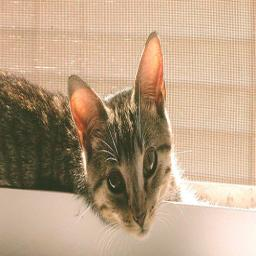catnose: (132, 209, 148, 229)
